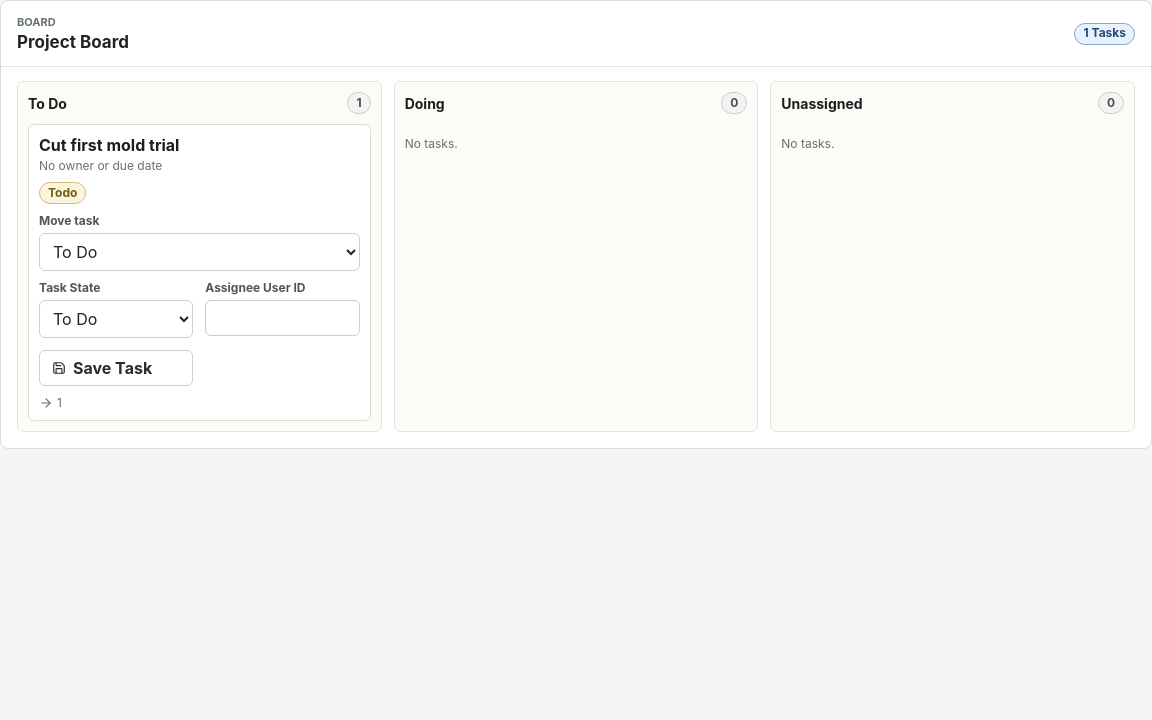
Test: ProjectBoard › shows move errors when the backend rejects a board update
Select "Doing" in the dropdown labelled "Move task" at (199, 252), box [39,233,360,271]
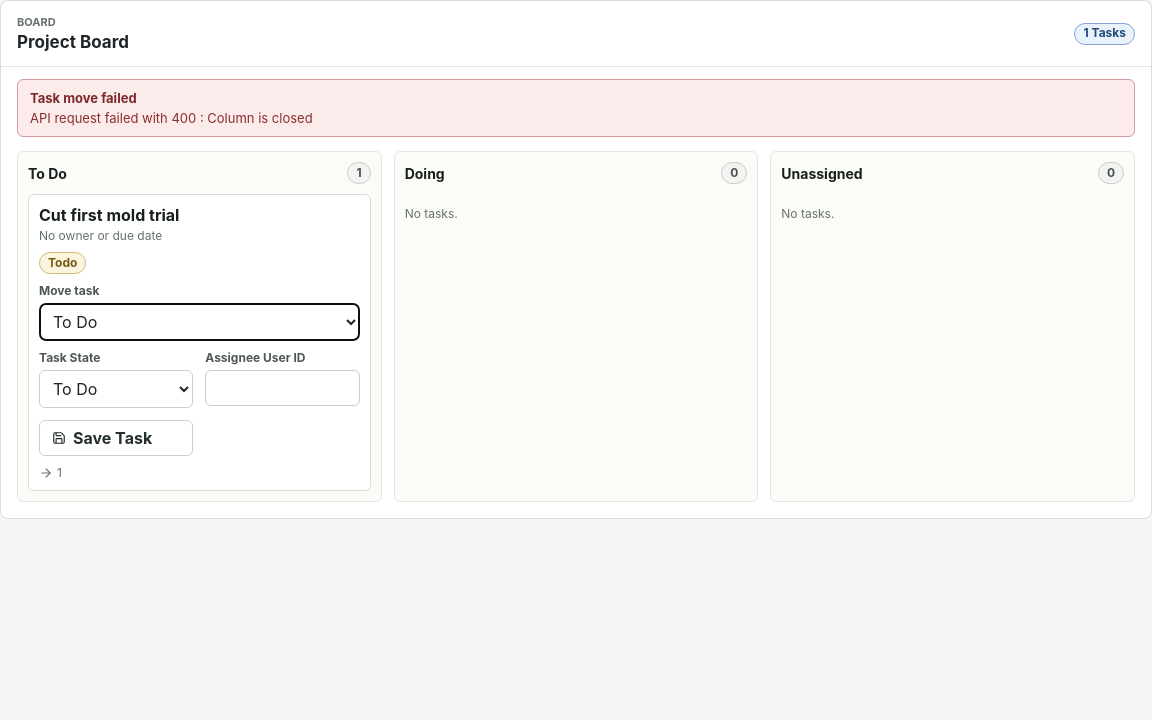
Expected: the message shows "Column is closed", [30,110,313,126]
